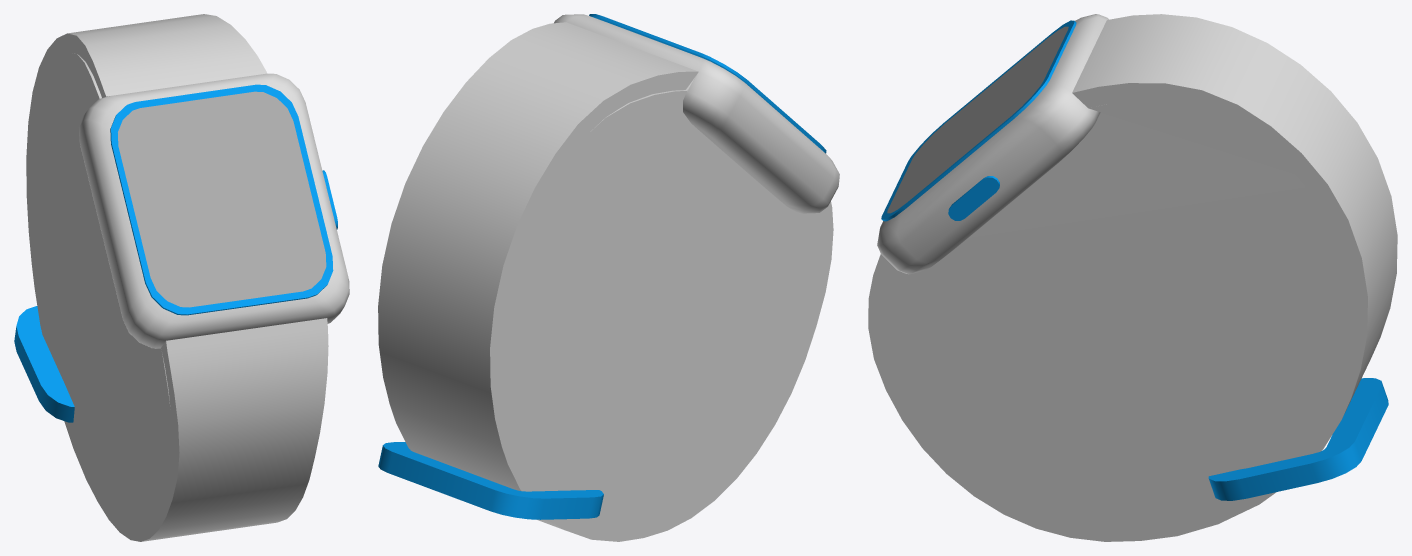
Rendered from SM_Smartwatches.fbx.
The picture shows the model from 3 angles, left to right: view 1: azimuth 30°, elevation 25°; view 2: azimuth 150°, elevation 25°; view 3: azimuth 270°, elevation 25°; orthographic projection. The views are drawn at different scales.
Visible parts, largest first — view 1: Smartwatch_body, Smartwatch_screen, Smartwatch_details; view 2: Smartwatch_body, Smartwatch_details; view 3: Smartwatch_body, Smartwatch_details, Smartwatch_screen.
Part boxes in pixels (bbox=[...]): Smartwatch_body: bbox=[26, 14, 349, 541]; Smartwatch_screen: bbox=[118, 91, 326, 307]; Smartwatch_details: bbox=[14, 84, 337, 422]; Smartwatch_body: bbox=[378, 14, 839, 541]; Smartwatch_details: bbox=[378, 14, 826, 519]; Smartwatch_body: bbox=[868, 14, 1397, 541]; Smartwatch_details: bbox=[881, 20, 1388, 500]; Smartwatch_screen: bbox=[887, 26, 1068, 213].
Bounding box in the file's own units: 8.33 × 14.25 × 14.68.
